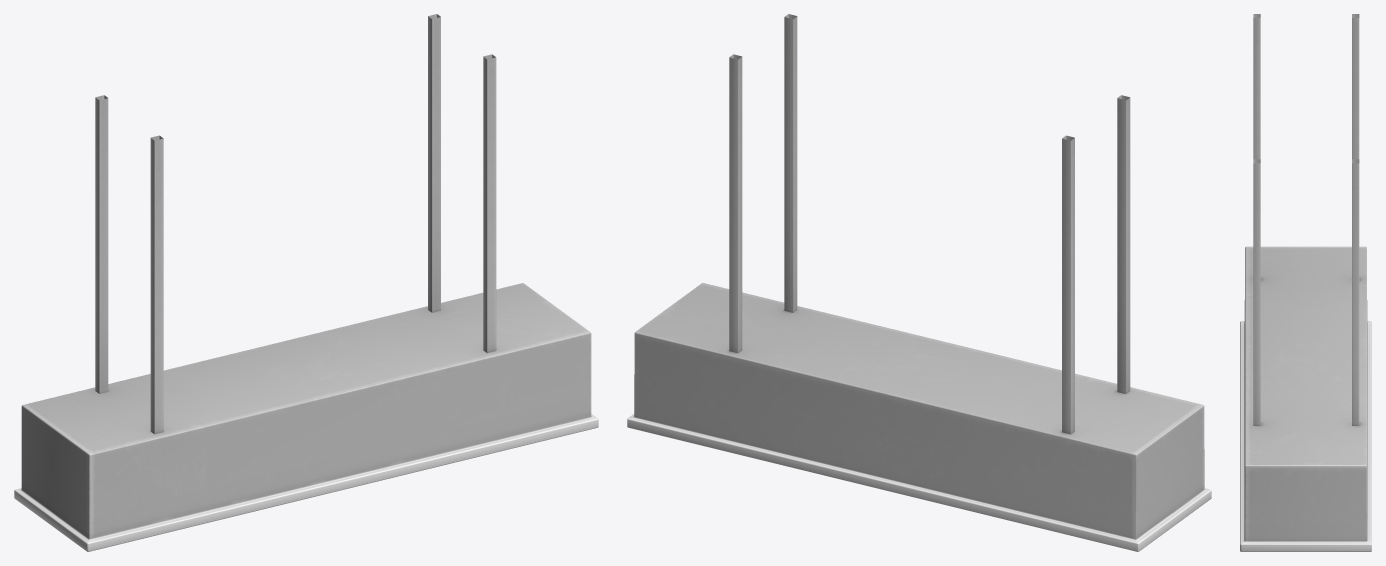
The model's file is EE_Ceiling_Lamp_02.gltf.
3 renders of one model, left to right at view 1: azimuth 30°, elevation 25°; view 2: azimuth 150°, elevation 25°; view 3: azimuth 270°, elevation 25°, orthographic. The views are drawn at different scales.
Parts seen in each view (by area): view 1: EE_Ceiling_Lamp_02.001; view 2: EE_Ceiling_Lamp_02.001; view 3: EE_Ceiling_Lamp_02.001.
Boxes of the visible parts, <box> form: EE_Ceiling_Lamp_02.001: <box>14,14,598,551</box>; EE_Ceiling_Lamp_02.001: <box>627,14,1211,551</box>; EE_Ceiling_Lamp_02.001: <box>1240,14,1371,551</box>.
Size of what is drawn, in the model's own units: 1.99 by 1.44 by 0.4964.
Materials: 2 (1 with a texture image).
